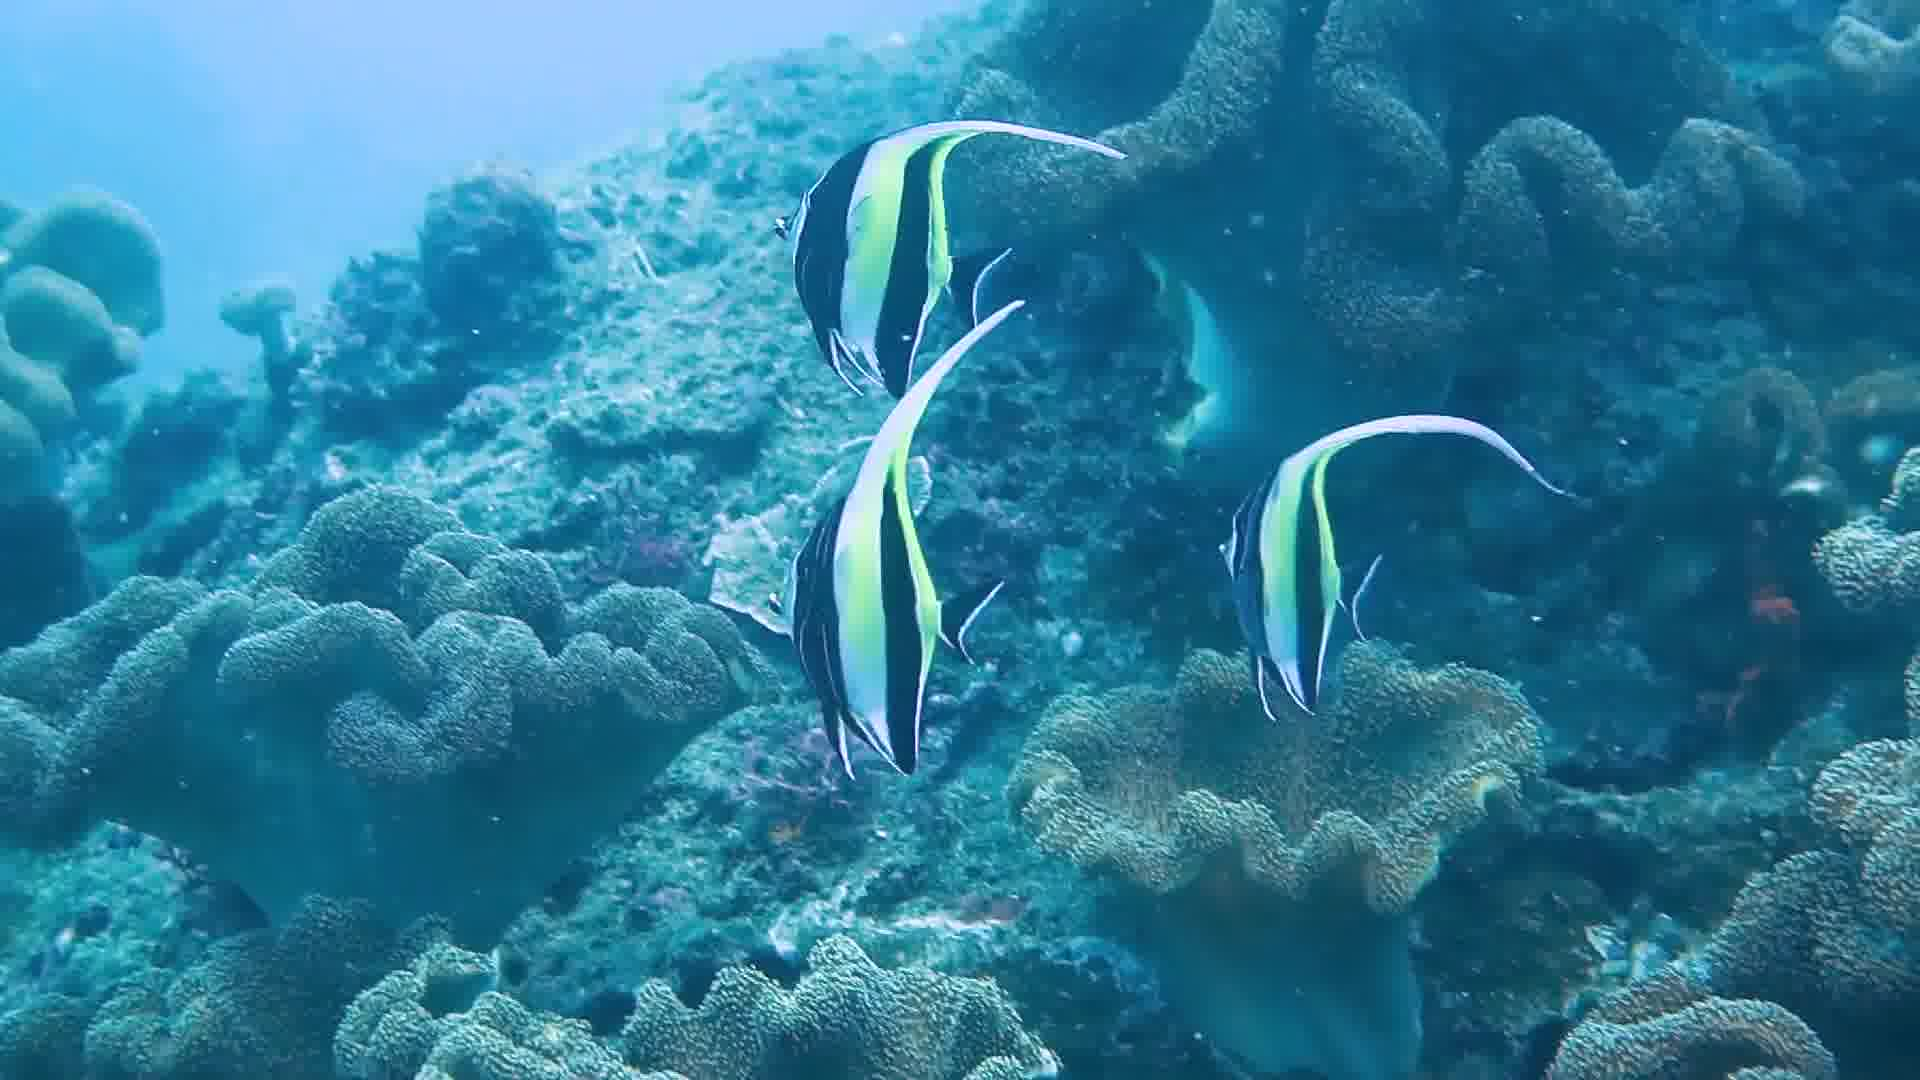Zanclus cornutus: (777, 436, 992, 766), (787, 69, 1001, 400), (1192, 413, 1406, 742)
